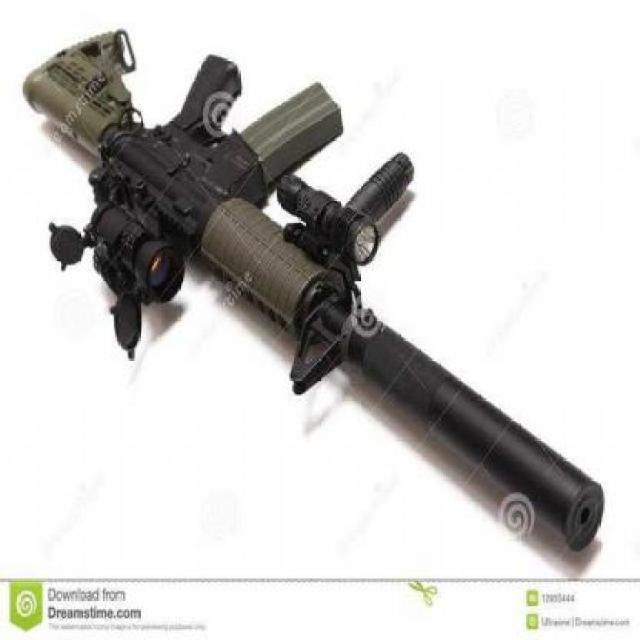weapon: (22, 25, 606, 554)
